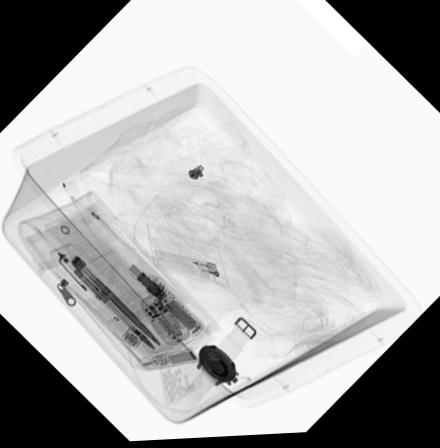Lighter: (153, 251, 221, 281)
